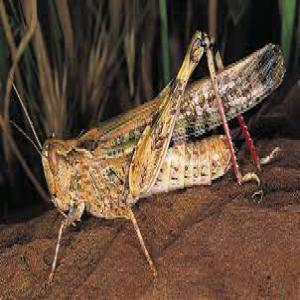locust: (59, 28, 288, 231)
